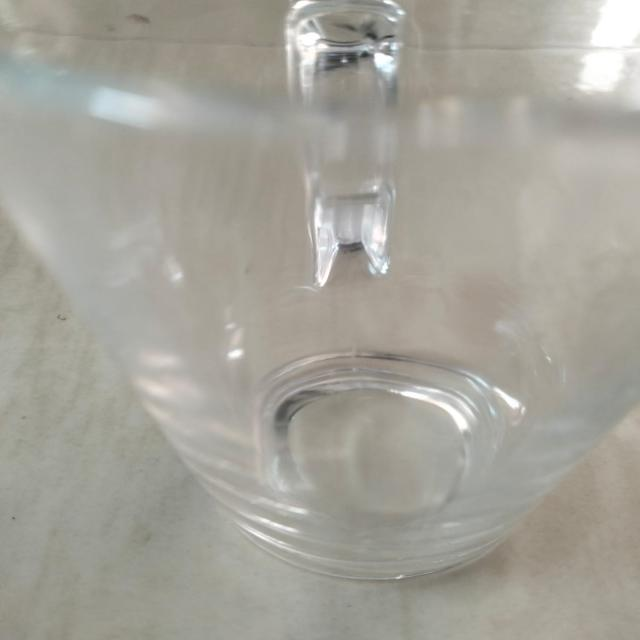glass-VX4N: (4, 1, 640, 579)
